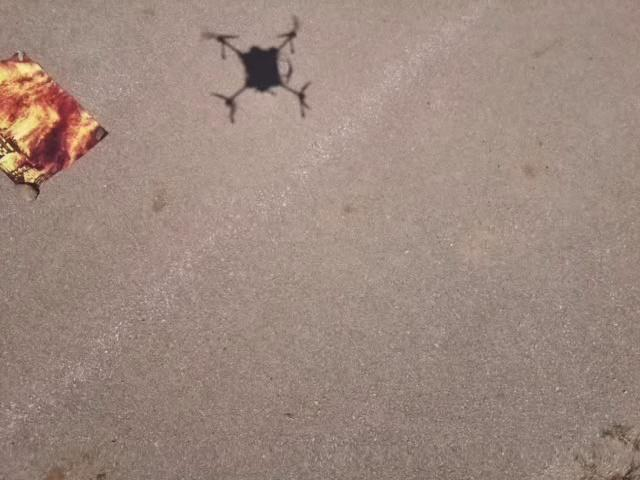fire-poster: (0, 49, 110, 201)
